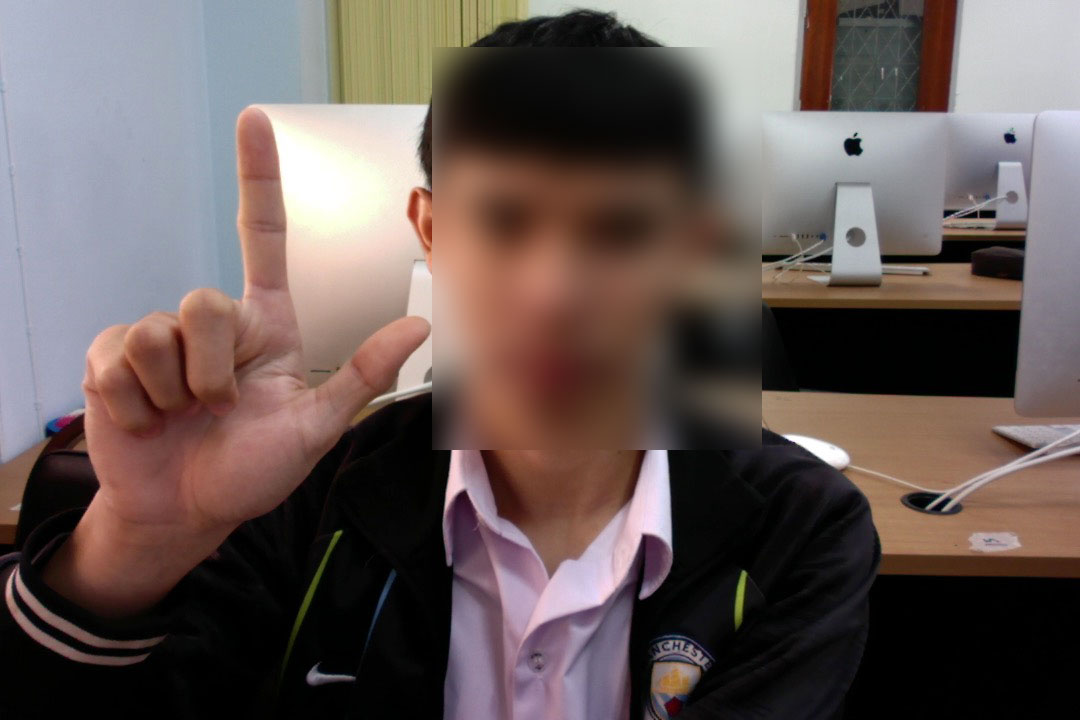lor: (51, 99, 439, 542)
